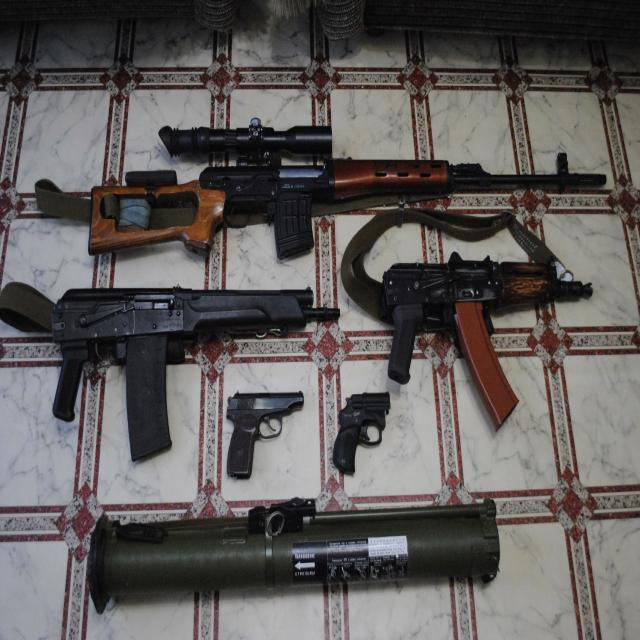firearm: (88, 116, 608, 259), (54, 286, 340, 460), (383, 260, 593, 432)
pistol: (227, 390, 304, 481), (333, 392, 391, 476)
rocket: (88, 496, 500, 611)
